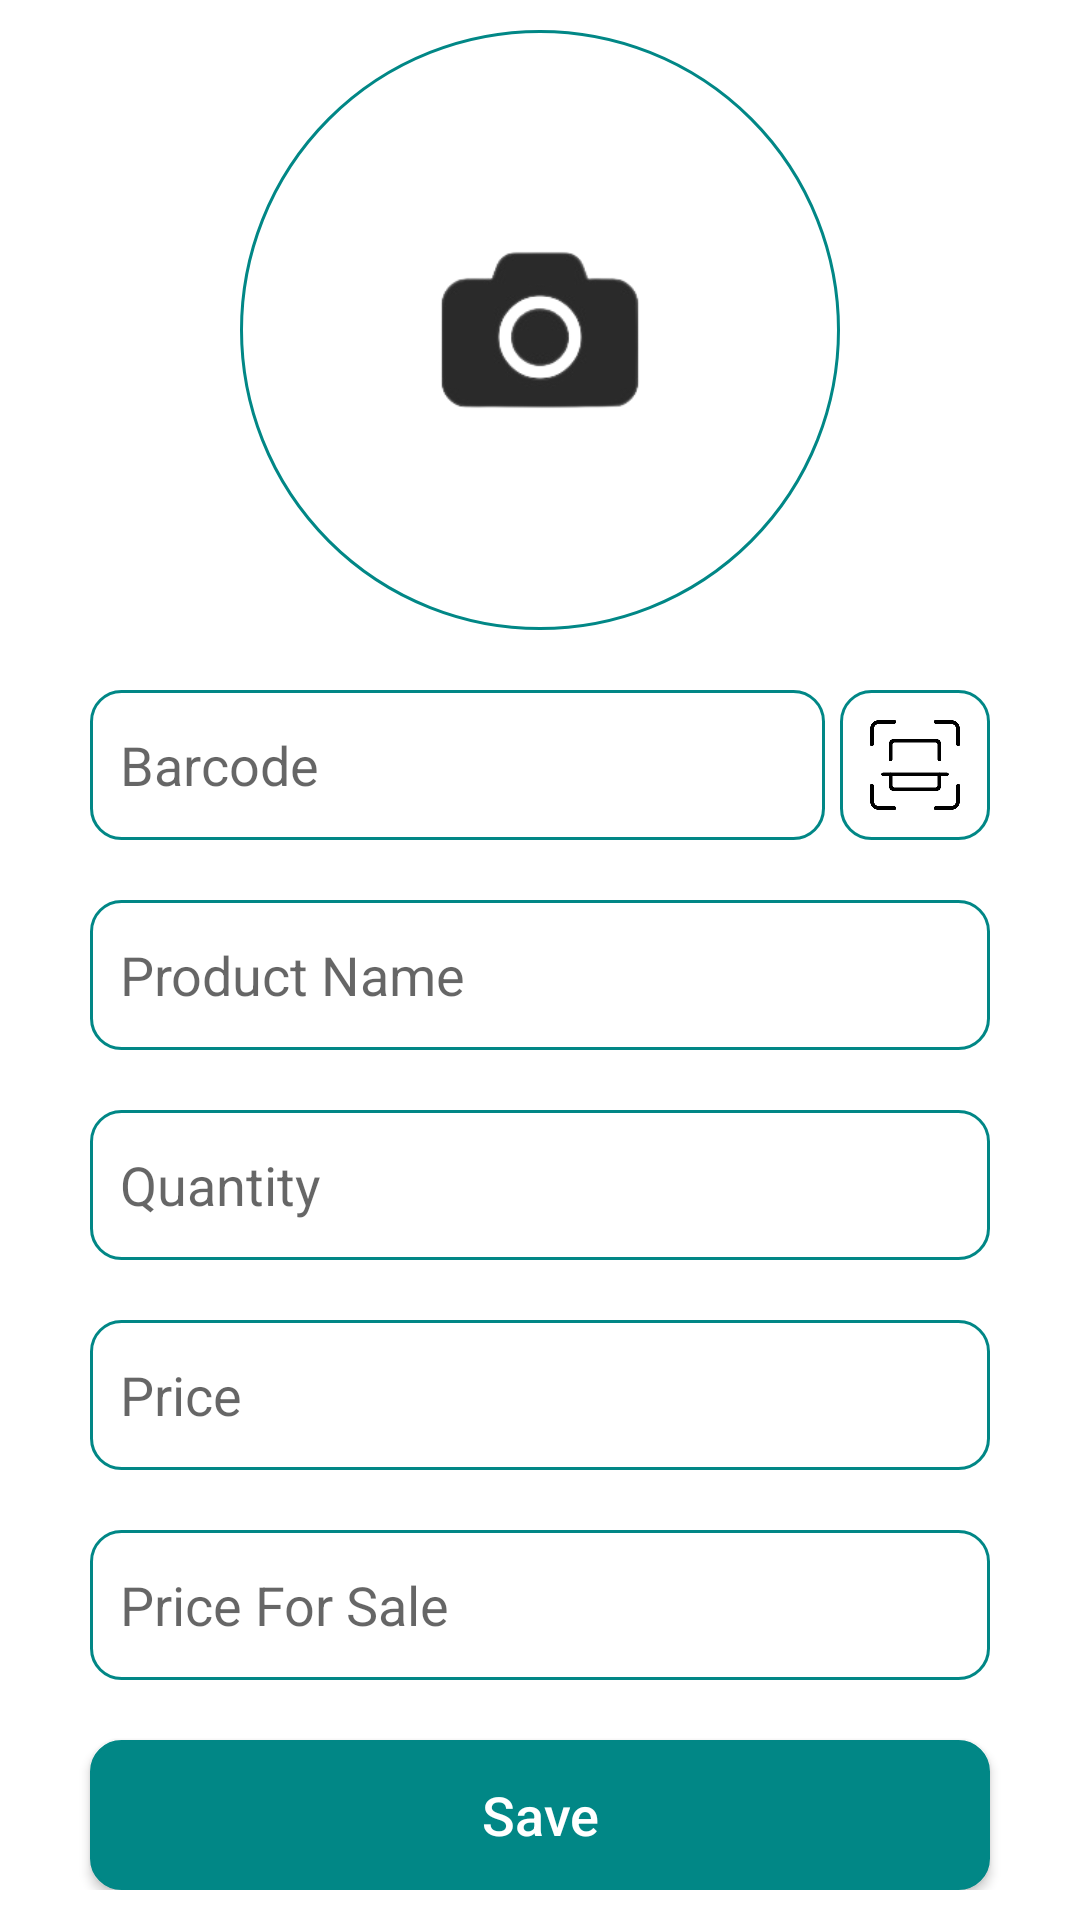

Where to tap for icons on this 1080 × 1920 app screen, as point (x, y):
scanner: point (915, 765)
